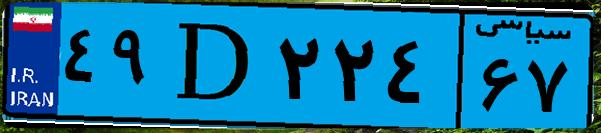2: (270, 28, 330, 110), (330, 28, 385, 110)
4: (385, 28, 445, 110), (57, 26, 110, 100)
6: (475, 38, 525, 113)
7: (525, 38, 570, 115)
9: (110, 28, 158, 98)
D: (158, 12, 270, 120)
